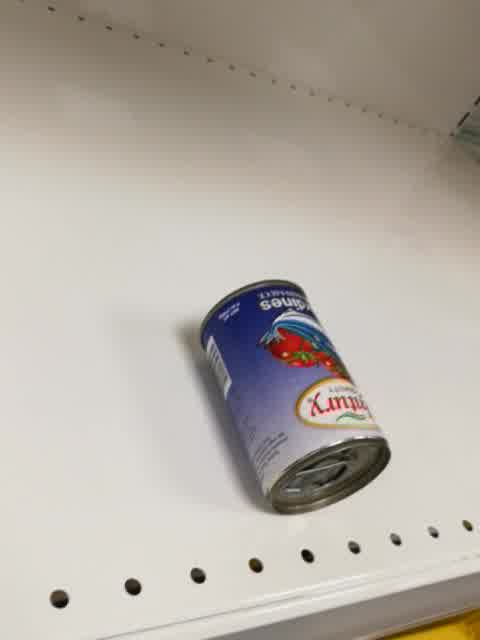sardine: (197, 276, 391, 517)
